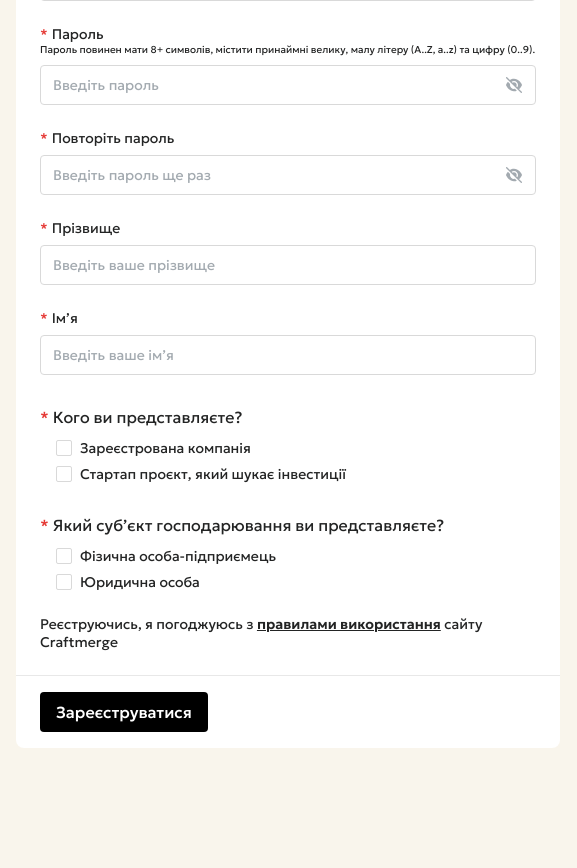
Test: Register page › shows every required message and focuses the first field on submit
(page scrolled)
Click the button "Зареєструватися" at (124, 712), box [40, 692, 208, 732]
(page scrolled)
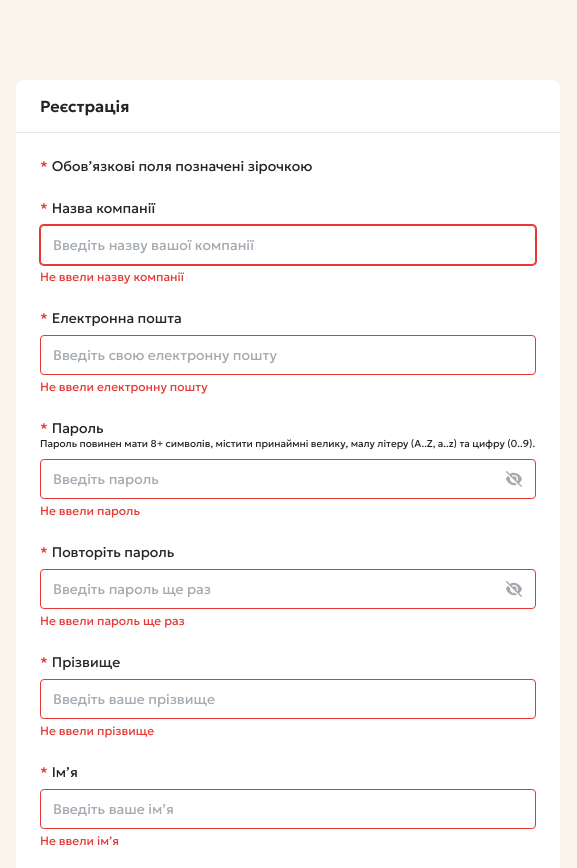
Expected: the text "Не ввели назву компанії" is shown, [40, 269, 184, 284]
Expected: the text "Не ввели електронну пошту" is shown, [40, 379, 208, 394]
Expected: the text "Не ввели пароль" is shown, [40, 503, 140, 518]
